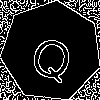Q: (26, 26, 79, 86)
